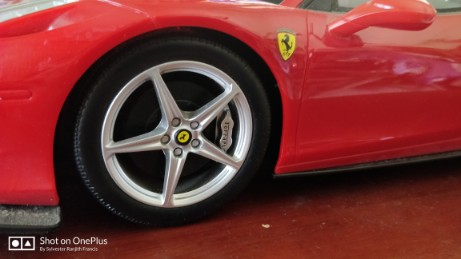unaligned_wheel: (49, 37, 294, 228)
